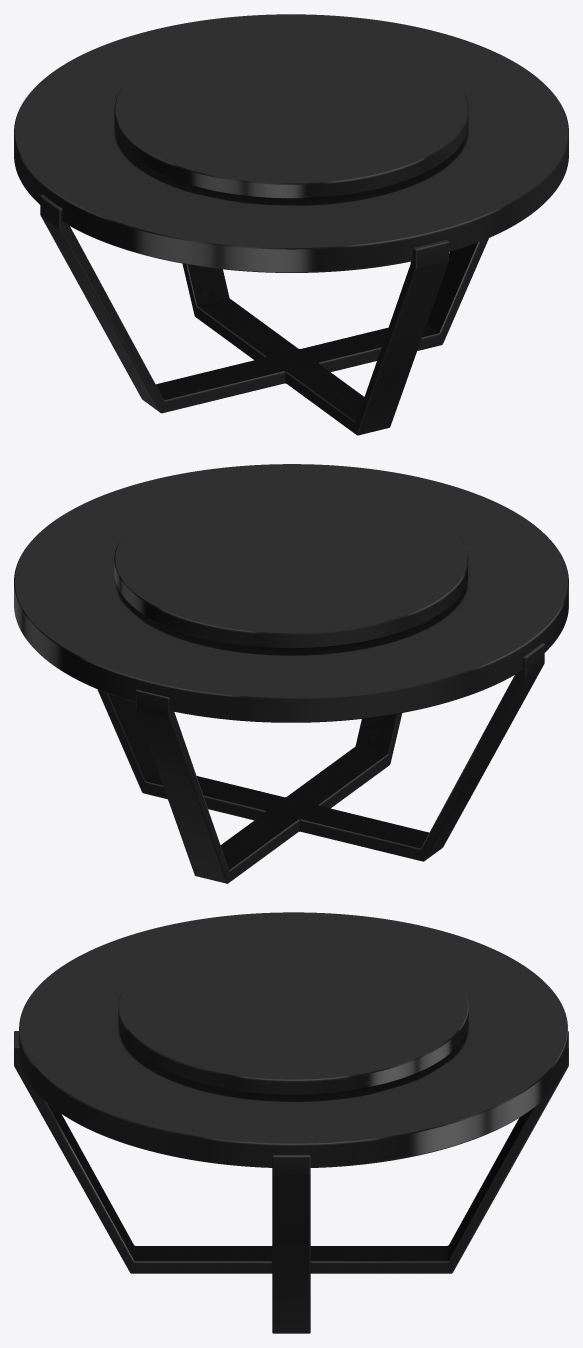
The model's file is table_dining_table_square_b73f1c20-d46f-570c-b301-4aded31c32a5.glb.
The picture shows the model from 3 angles, top to bottom: view 1: azimuth 30°, elevation 25°; view 2: azimuth 150°, elevation 25°; view 3: azimuth 270°, elevation 25°; orthographic projection.
Visible parts, largest first — view 1: raw_model.obj; view 2: raw_model.obj; view 3: raw_model.obj.
Boxes of the visible parts, x1=… form: raw_model.obj: x1=14, y1=14, x2=568, y2=435; raw_model.obj: x1=14, y1=464, x2=568, y2=883; raw_model.obj: x1=14, y1=912, x2=568, y2=1333.
Bounding box in the file's own units: 1.51 × 0.778 × 1.51.
Materials: 1 (1 with a texture image).
